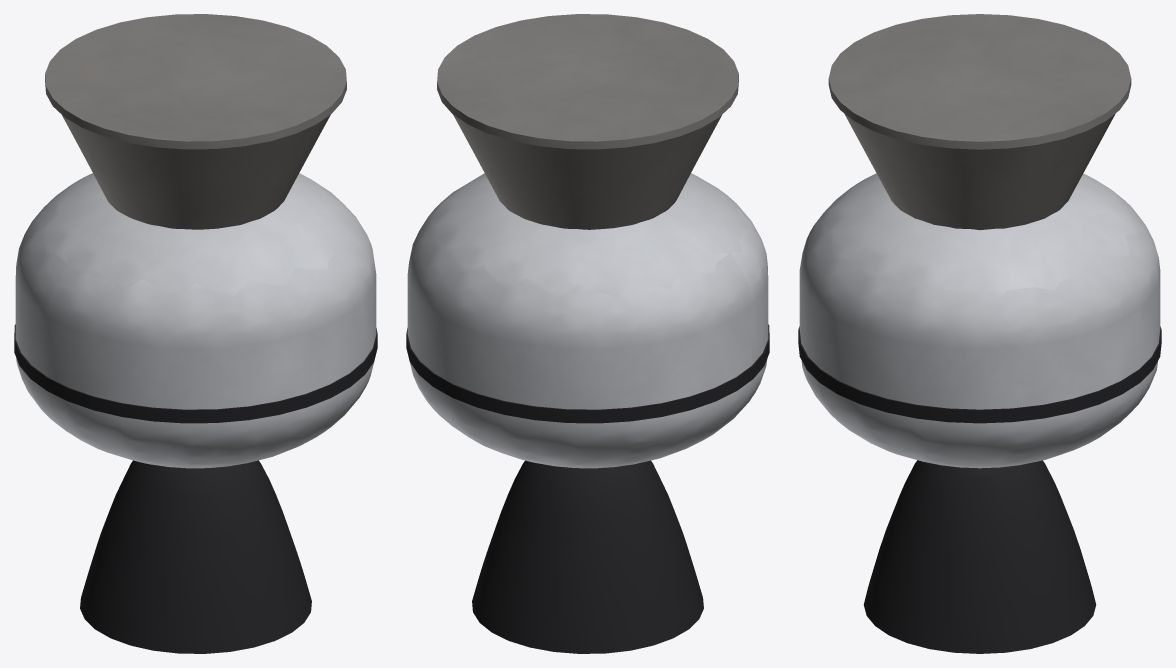
The model's file is prop23_kick_motor.glb.
3 renders of one model, left to right at view 1: azimuth 30°, elevation 25°; view 2: azimuth 150°, elevation 25°; view 3: azimuth 270°, elevation 25°, orthographic.
Parts seen in each view (by area): view 1: case, forward_adapter, nozzle, case_band; view 2: case, forward_adapter, nozzle, case_band; view 3: case, forward_adapter, nozzle, case_band.
Boxes of the visible parts, x1,y1,x2,y2 form: case: [15, 173, 376, 468]; forward_adapter: [45, 14, 346, 229]; nozzle: [80, 460, 311, 653]; case_band: [14, 324, 377, 423]; case: [407, 173, 768, 468]; forward_adapter: [437, 14, 738, 229]; nozzle: [472, 460, 703, 653]; case_band: [406, 324, 769, 423]; case: [799, 173, 1160, 468]; forward_adapter: [828, 14, 1131, 230]; nozzle: [863, 460, 1096, 653]; case_band: [798, 326, 1161, 423].
Size of the model in its own units: 1.25 by 2 by 1.25.
3 materials, 2 textured.
